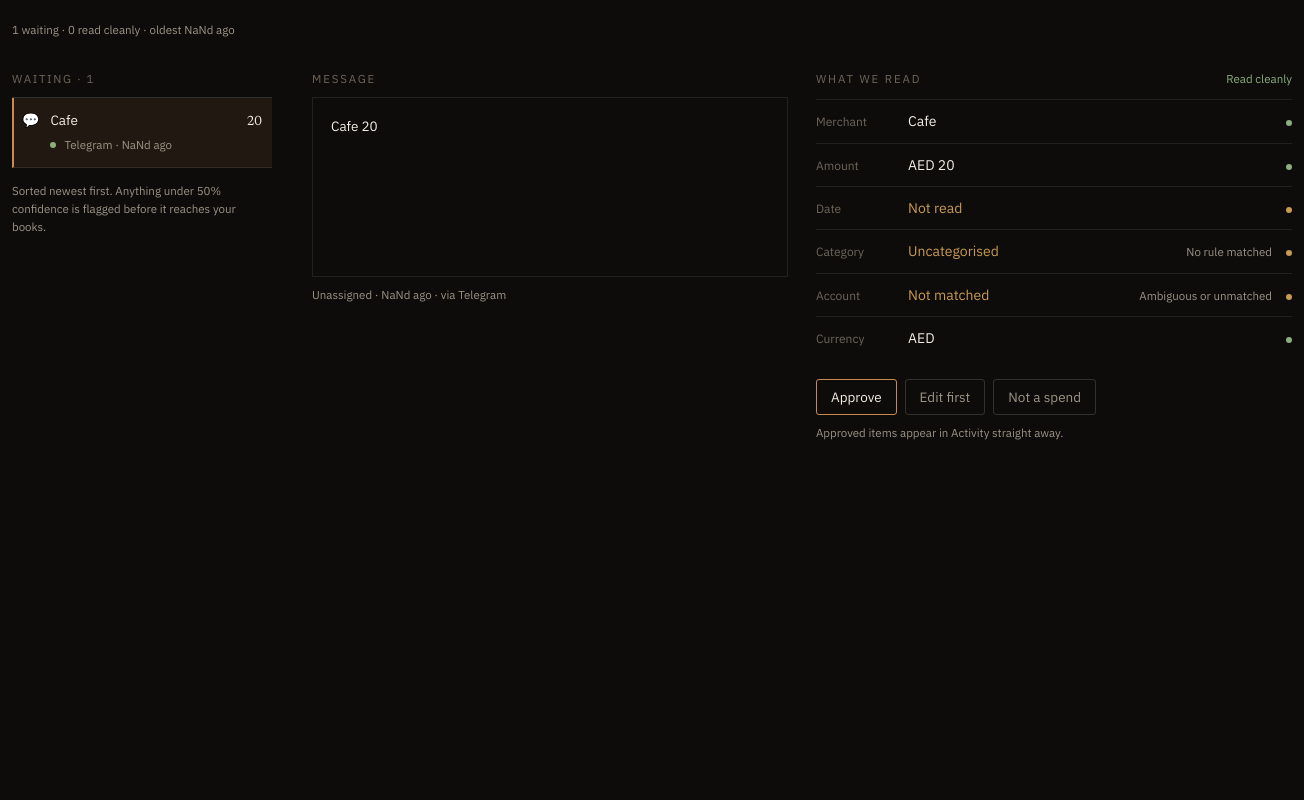
Test: forms default to the household's day, not UTC's › an Inbox item with no date, opened to edit
Click the button "Edit first": (945, 397) [905,379,985,415]
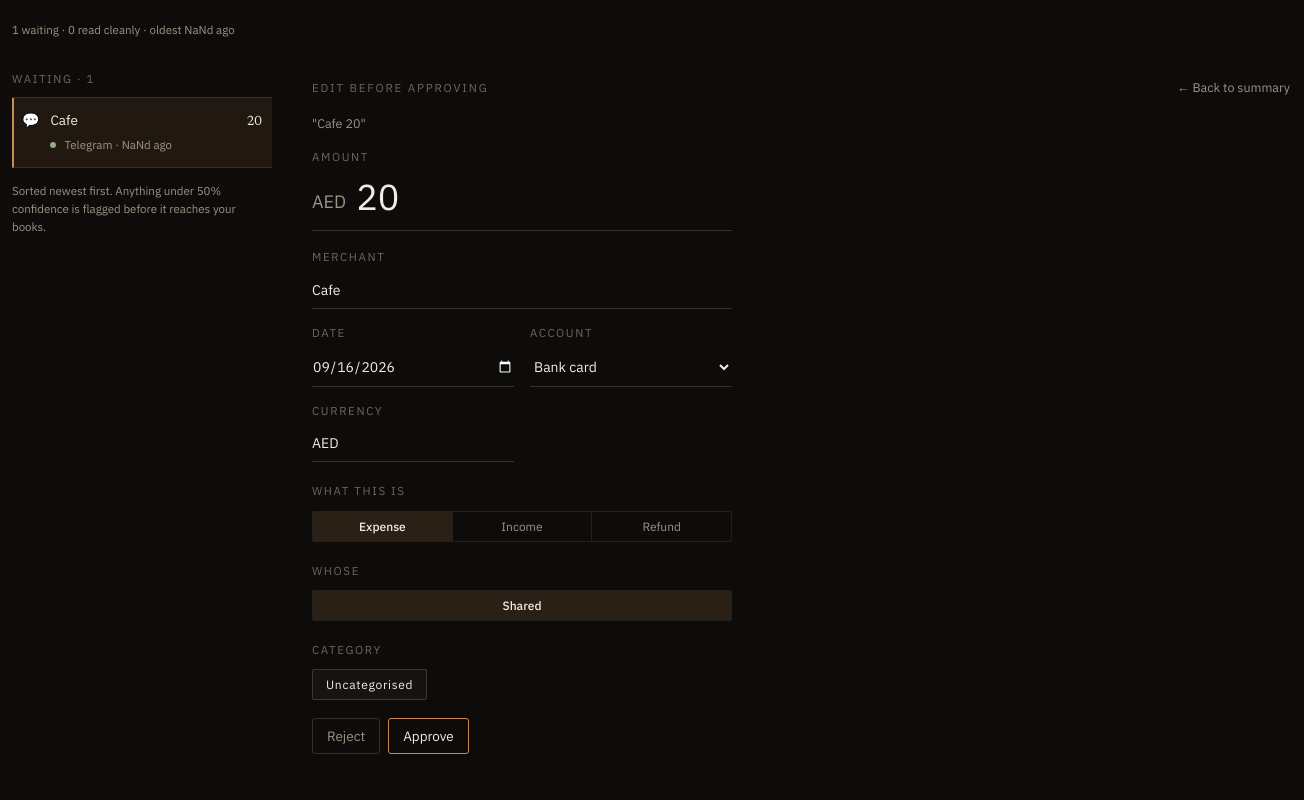
Result: the date field named "Date" holds "2026-09-16" at [312,348,514,387]
